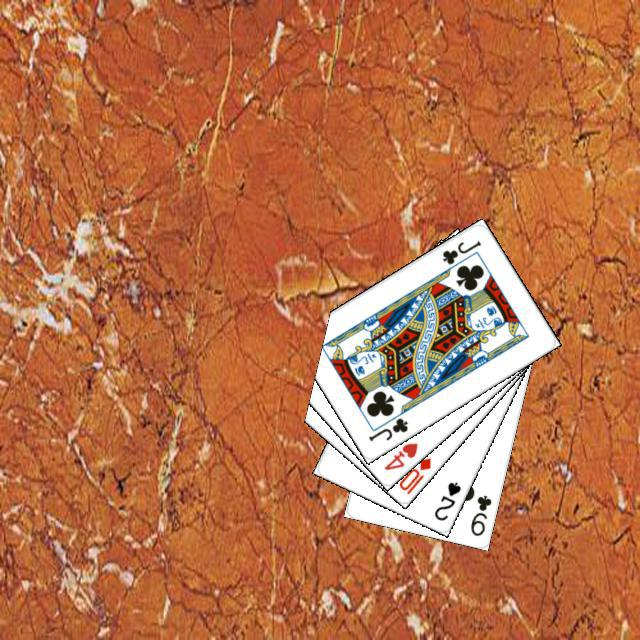10d: (394, 453, 433, 496)
2s: (429, 477, 463, 522)
4h: (379, 438, 420, 472)
9c: (466, 490, 493, 538)
Jc: (363, 413, 410, 443), (437, 236, 483, 266)
